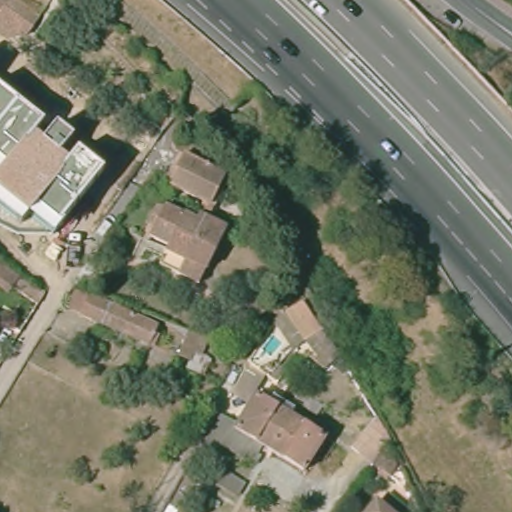pool: (258, 332, 281, 361)
